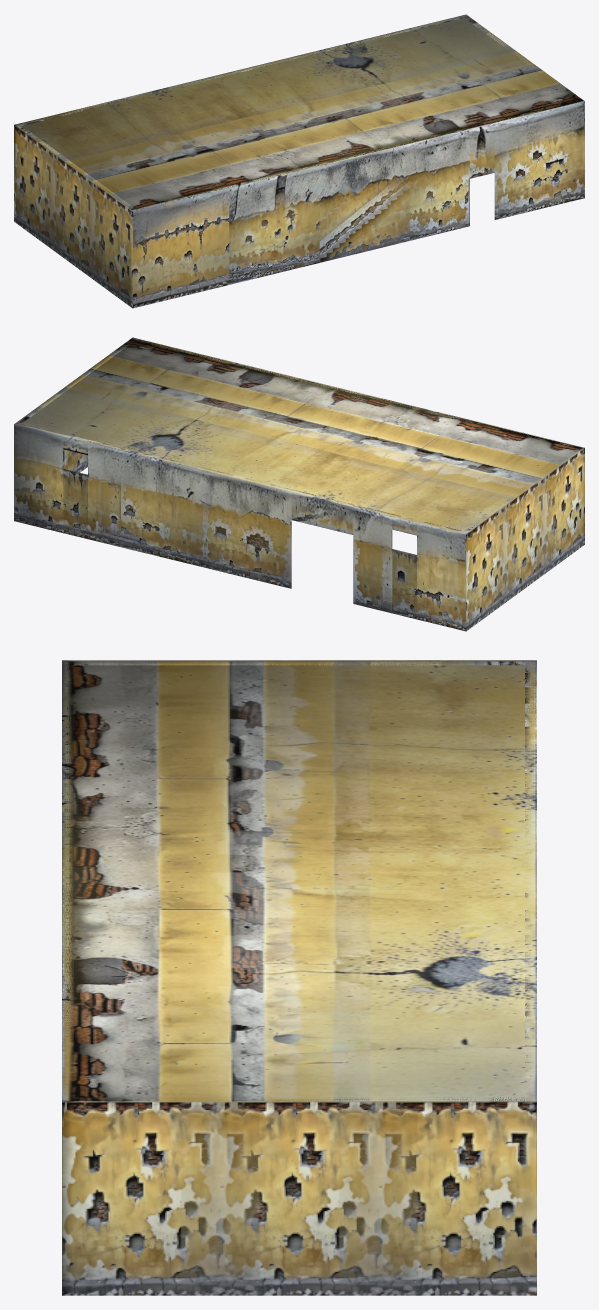
Rendered from skin_railway_60_26.glb.
3 views of the same model, one above another, from view 1: azimuth 30°, elevation 25°; view 2: azimuth 150°, elevation 25°; view 3: azimuth 270°, elevation 25° (orthographic). The views are drawn at different scales.
Visible parts, largest first — view 1: railway_60_26; view 2: railway_60_26; view 3: railway_60_26.
Boxes of the visible parts, x1,y1,x2,y2 form: railway_60_26: (14,14,584,308); railway_60_26: (14,337,584,631); railway_60_26: (62,660,536,1295).
Bounding box in the file's own units: 22 × 4.5 × 10.
1 material, 1 textured.
